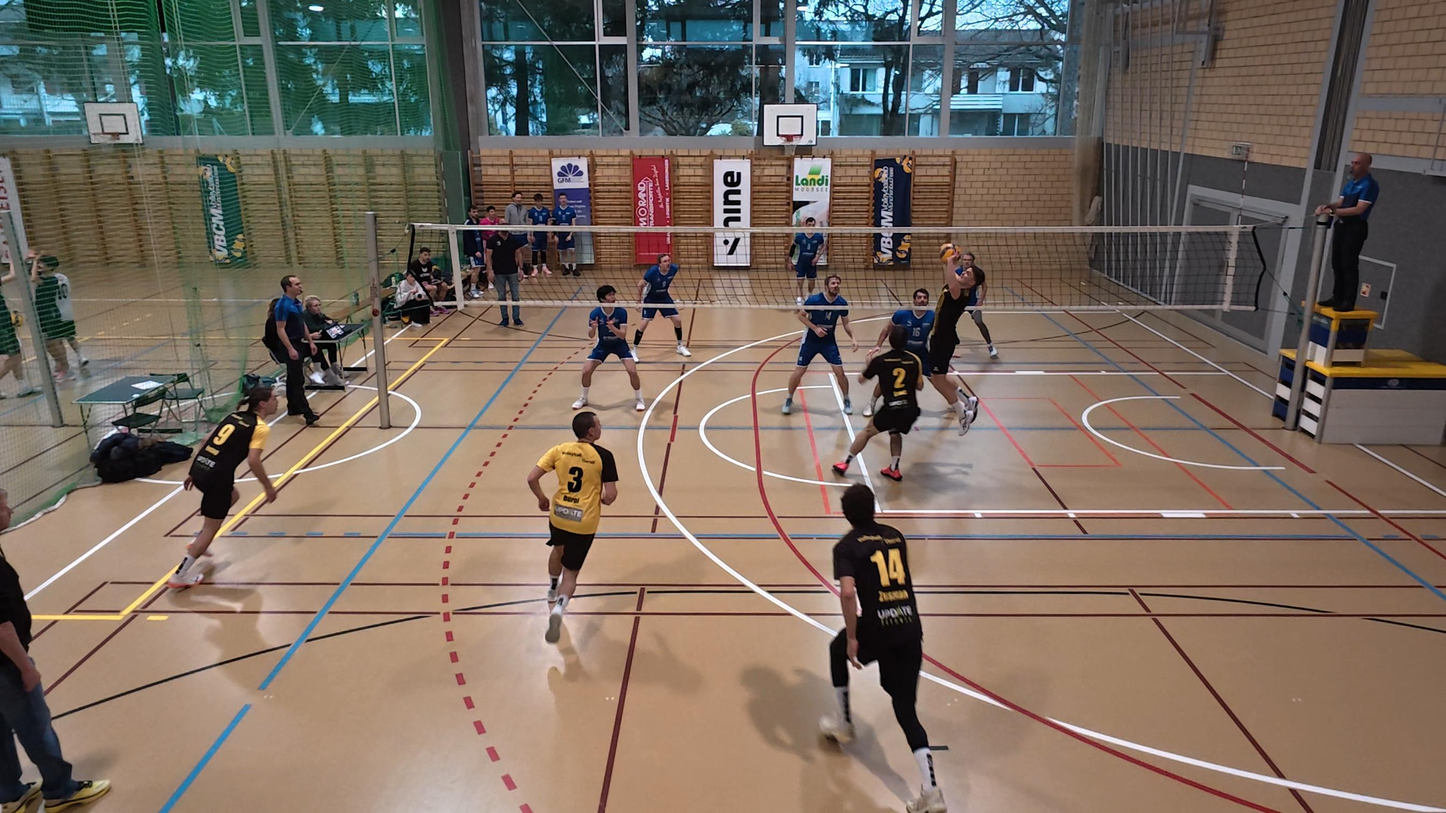Player: (821, 483, 943, 813), (528, 411, 619, 643), (174, 383, 277, 587), (832, 325, 925, 482), (873, 287, 976, 426), (781, 274, 858, 415), (573, 285, 650, 411), (628, 252, 690, 358), (949, 249, 1000, 360), (788, 216, 827, 306)
Set: (914, 259, 987, 433)
ball: (938, 241, 958, 261)
